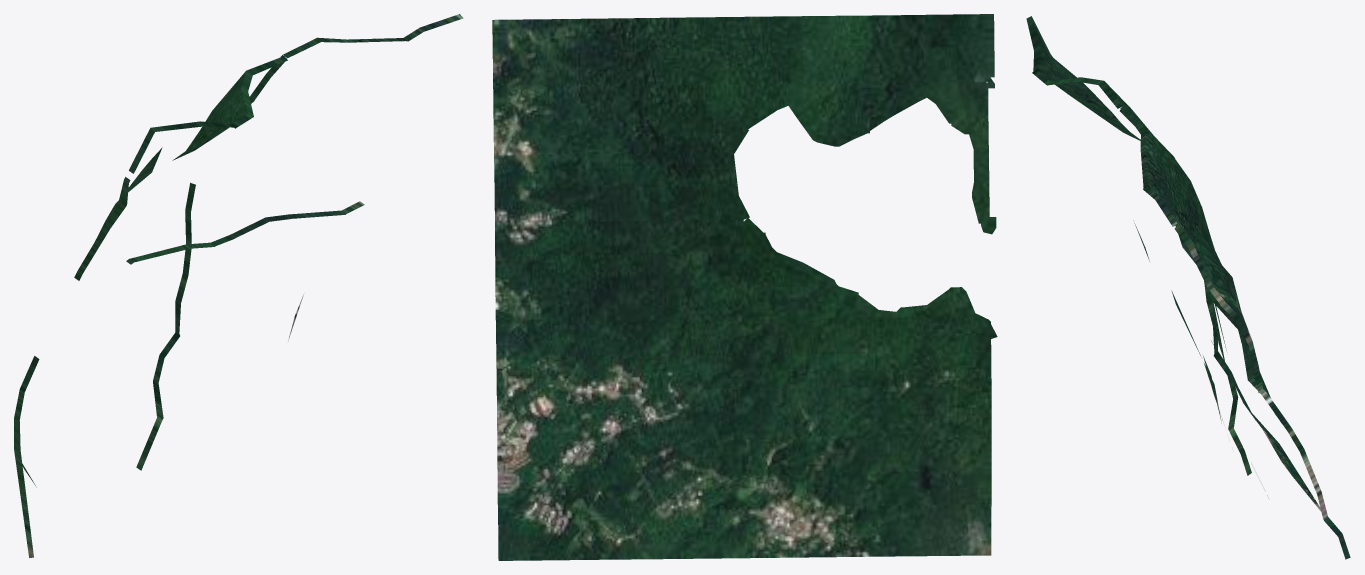
The picture shows the model from 3 angles, left to right: view 1: azimuth 30°, elevation 25°; view 2: azimuth 150°, elevation 25°; view 3: azimuth 270°, elevation 25°; orthographic projection. The views are drawn at different scales.
Bounding box in the file's own units: 2523 × 2419 × 1703.
1 material, 1 textured.
